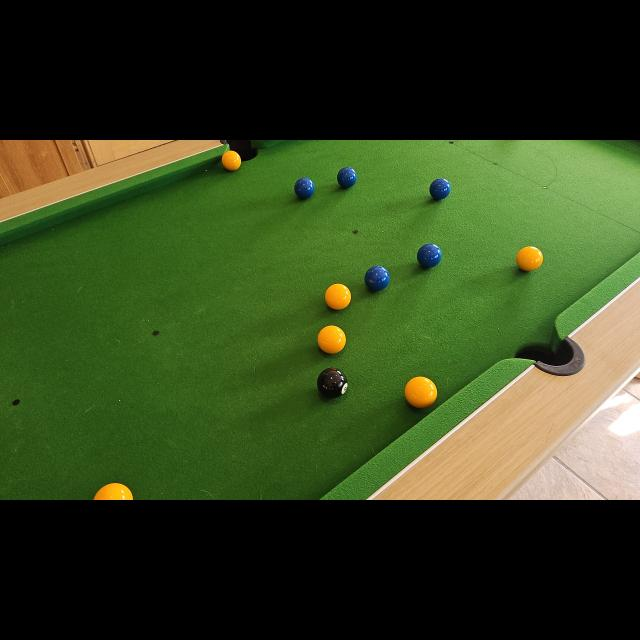Ball: (405, 377, 437, 408), (317, 368, 347, 398), (317, 325, 345, 355), (92, 484, 134, 500), (326, 284, 350, 310), (518, 246, 542, 272), (364, 267, 390, 291), (418, 244, 442, 268), (428, 178, 449, 200), (294, 178, 314, 198), (222, 150, 240, 172), (338, 166, 356, 188)
